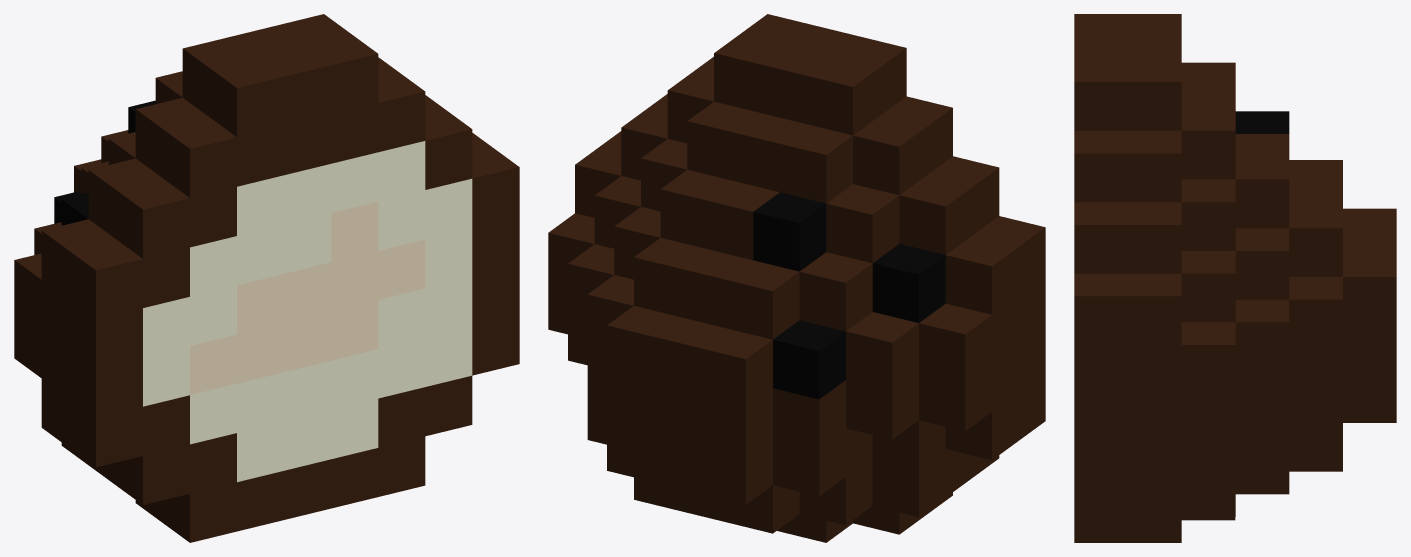
The model's file is coconut_slicer.fbx.
The picture shows the model from 3 angles, left to right: view 1: azimuth 30°, elevation 25°; view 2: azimuth 150°, elevation 25°; view 3: azimuth 270°, elevation 25°; orthographic projection.
Visible parts, largest first — view 1: Untitled.001; view 2: Untitled.001; view 3: Untitled.001.
Part boxes in pixels (left/top/right/bottom): Untitled.001: left=14, top=14, right=519, bottom=542; Untitled.001: left=548, top=14, right=1045, bottom=542; Untitled.001: left=1074, top=14, right=1396, bottom=542.
Size of the model in its own units: 90 by 90 by 60.
